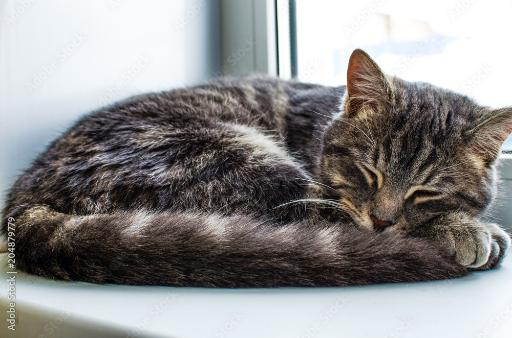cat_sleeping: (0, 49, 511, 288)
